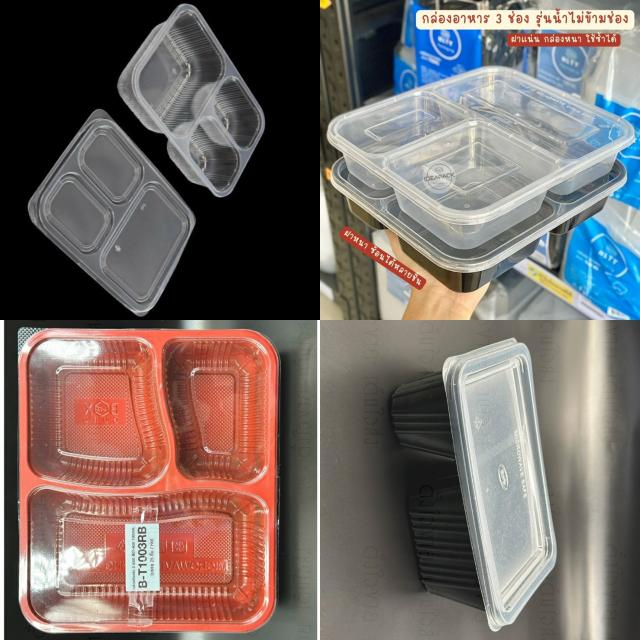Single-Use-Plastic: (19, 329, 278, 631), (328, 66, 634, 249), (390, 339, 556, 631), (29, 110, 195, 316), (118, 4, 265, 197)
